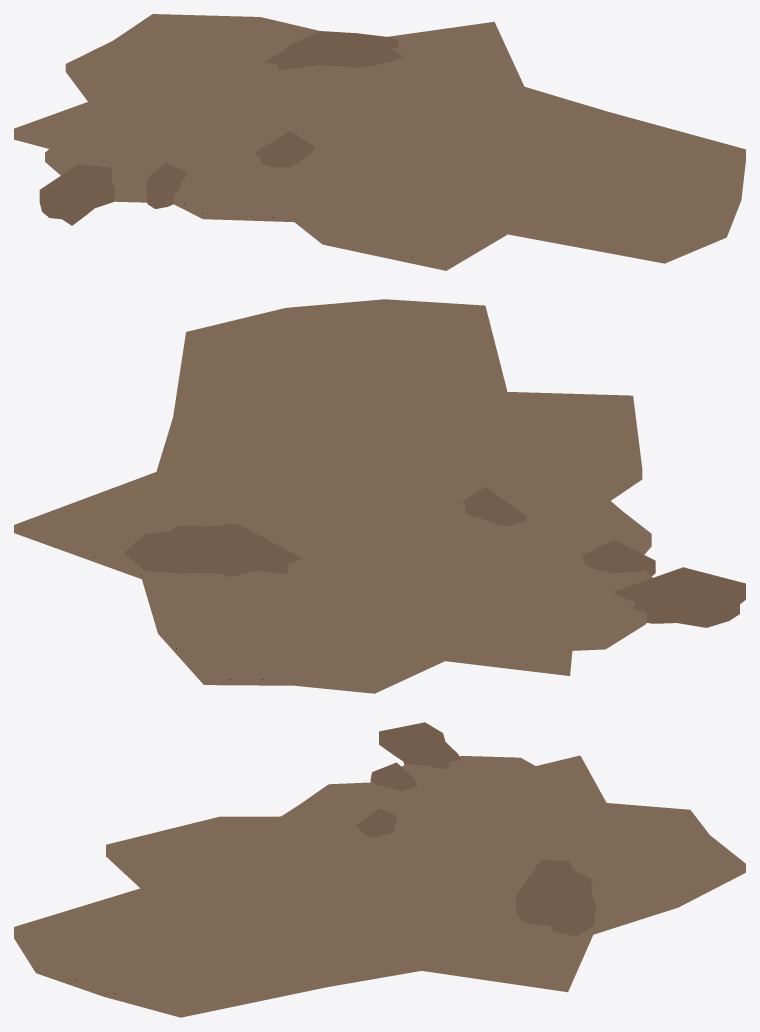
File: dirt_5.glb
The picture shows the model from 3 angles, top to bottom: view 1: azimuth 30°, elevation 25°; view 2: azimuth 150°, elevation 25°; view 3: azimuth 270°, elevation 25°; orthographic projection. The views are drawn at different scales.
Parts seen in each view (by area): view 1: dirt_5; view 2: dirt_5; view 3: dirt_5.
Part boxes in pixels (bbox=[...]): dirt_5: bbox=[14, 14, 745, 270]; dirt_5: bbox=[14, 299, 745, 693]; dirt_5: bbox=[14, 722, 745, 1017].
Bounding box in the file's own units: 0.8846 × 0.0679 × 0.9871.
